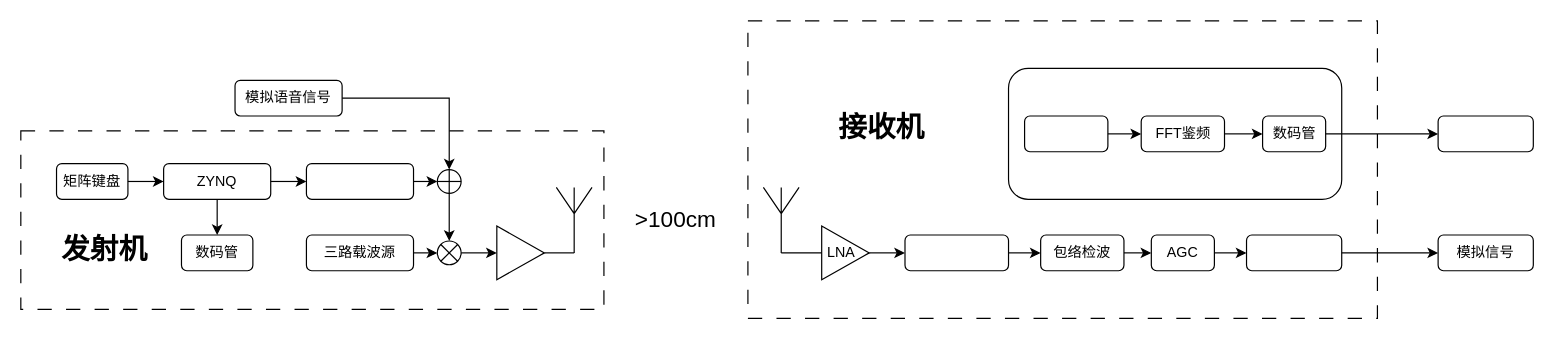
This 1554x339 diagram has some shape labels left out. The shapes that lost their labels are listed below. From the top down, each one's centre as x and y in pixels, then its label:
[1065,133]: ADC采样
[1485,133]: 数字信号
[359,180]: 数字调制信号
[520,252]: PA
[956,252]: 高频放大器
[1293,252]: 低通滤波器
